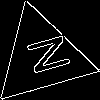N: (16, 32, 71, 80)
